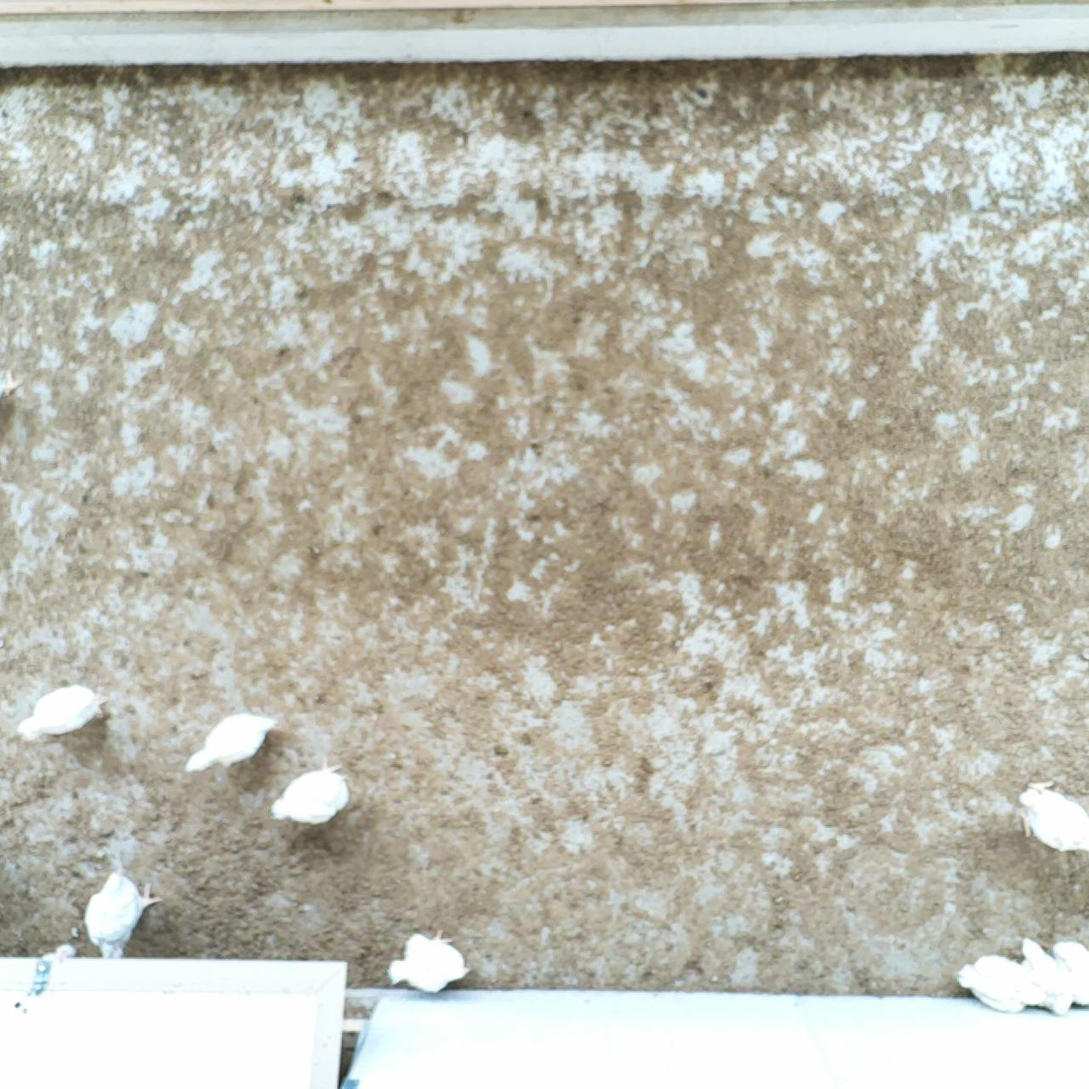chicken: (78, 870, 160, 961), (182, 706, 281, 780), (385, 927, 479, 999), (956, 950, 1047, 1017), (14, 678, 110, 741), (268, 757, 352, 828), (1018, 776, 1089, 855), (1015, 933, 1074, 1019), (1048, 937, 1089, 1008)
